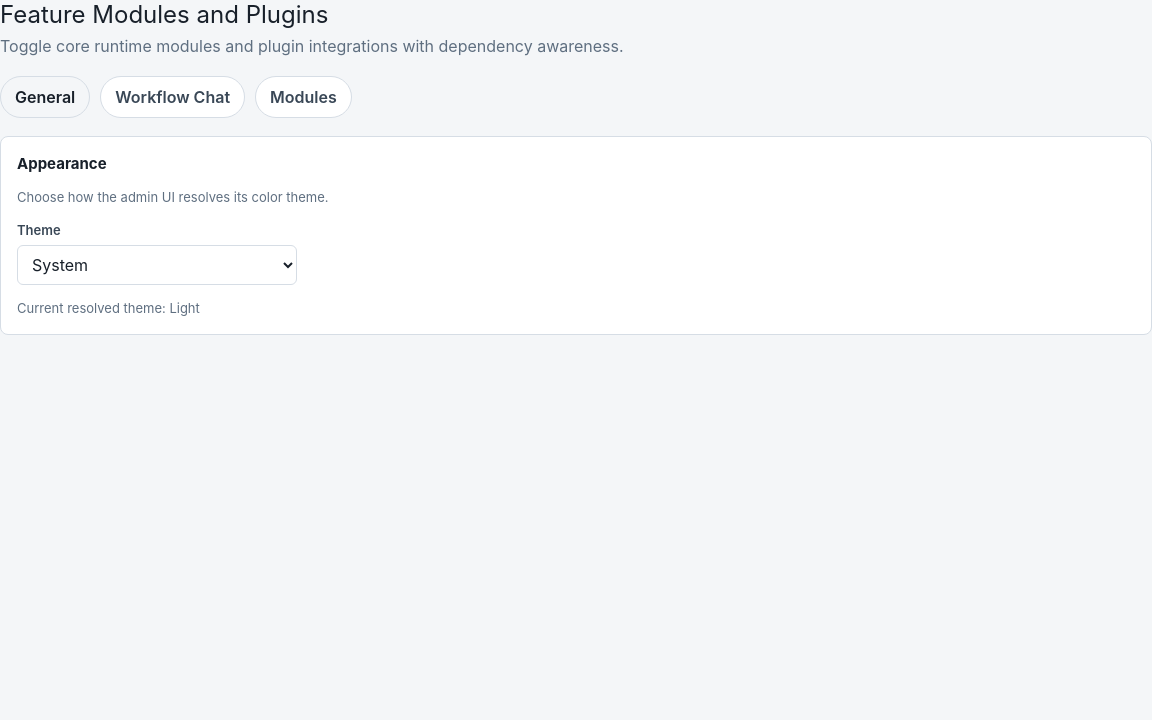
it: SettingsView › updates the theme preference from settings
Select "Dark" in the dropdown with test id "theme-preference-select" at (157, 264), box [17, 244, 297, 284]
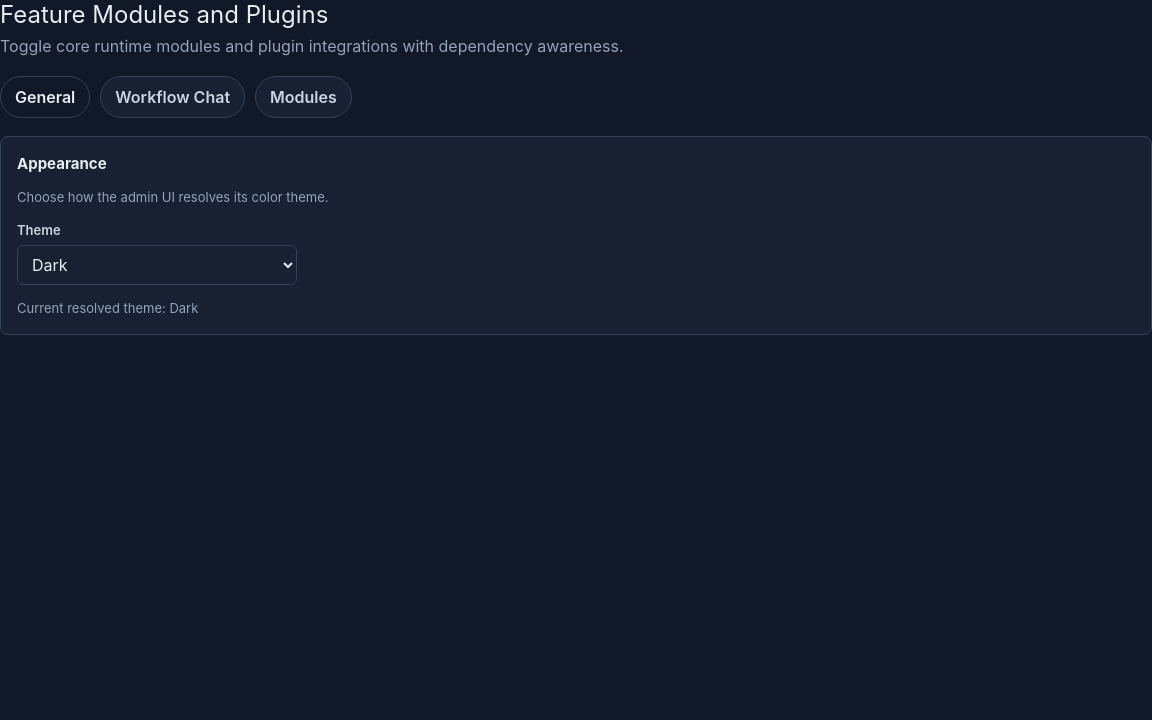
Check: the text with test id "theme-resolved" shows "Dark", box [17, 300, 198, 316]
